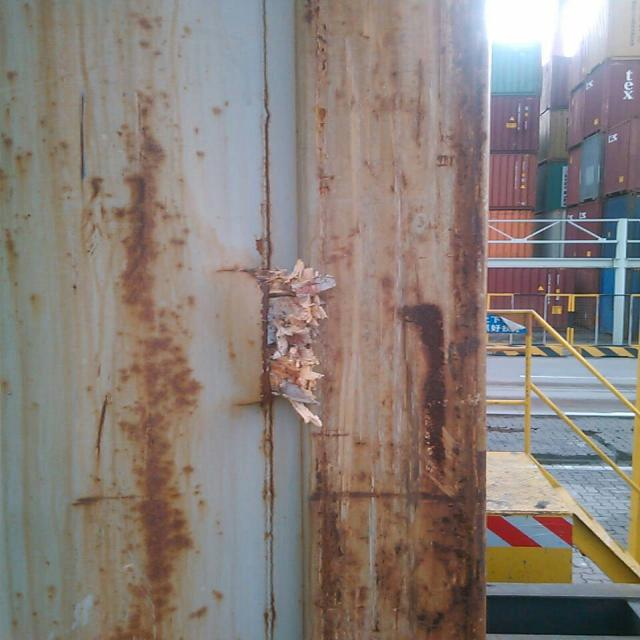rust: (313, 4, 488, 640), (93, 13, 193, 638)
